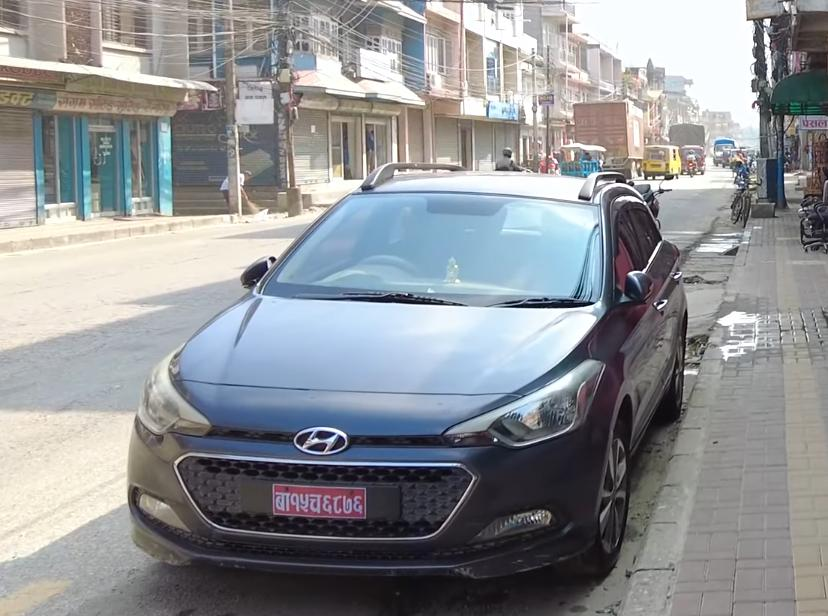car: (133, 148, 707, 568)
